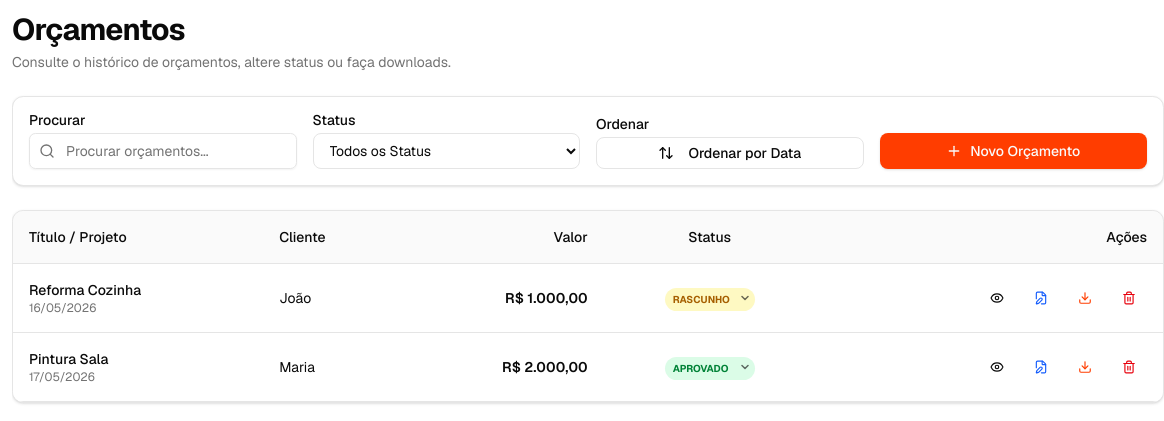
Scenario: QuotesHistory Page › filters by status
This screenshot has width=1164, height=421.
Expected: the text "Pintura Sala" is shown, x1=29 y1=350 x2=108 y2=368
Select "Aprovados" in the dropdown labelled "Status" at [446, 151], box x1=312 y1=133 x2=580 y2=169
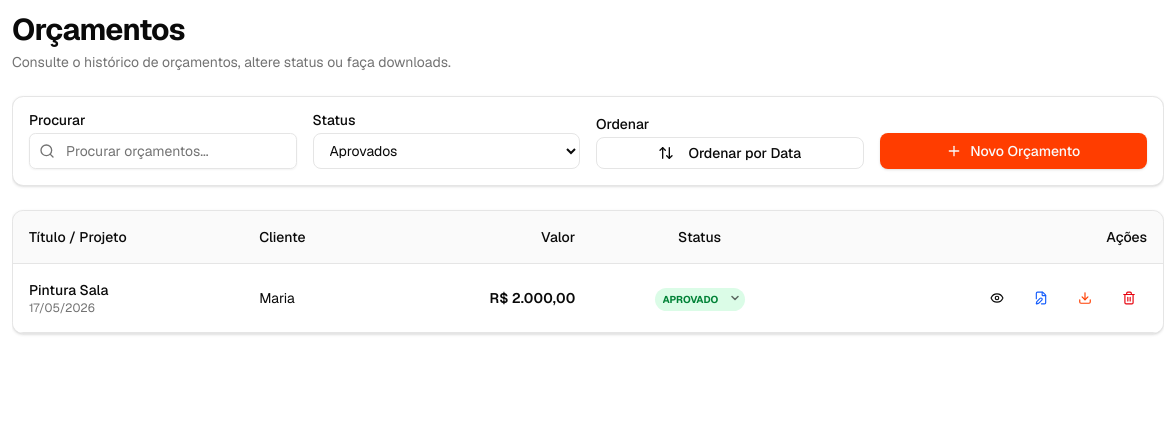
Expected: the text "Pintura Sala" is shown, x1=29 y1=281 x2=108 y2=299
Result: the text "Reforma Cozinha" is gone
